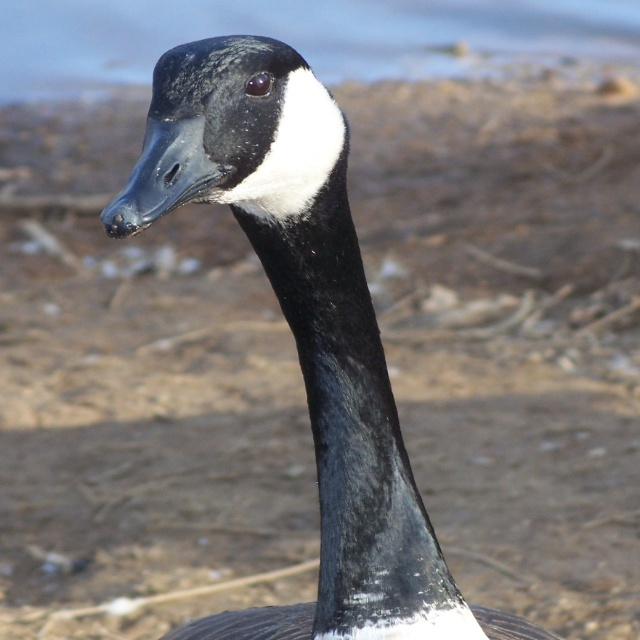Goose: (91, 54, 509, 640)
